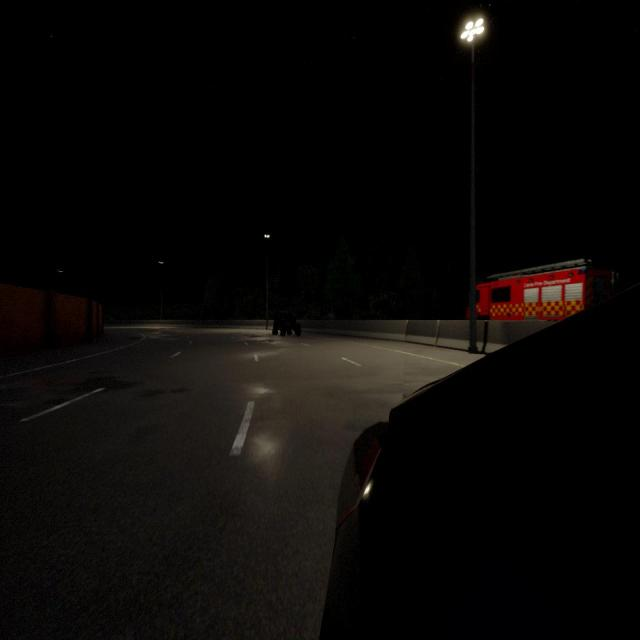Vehicle: (320, 285, 640, 637), (464, 258, 626, 320), (273, 312, 301, 336)
